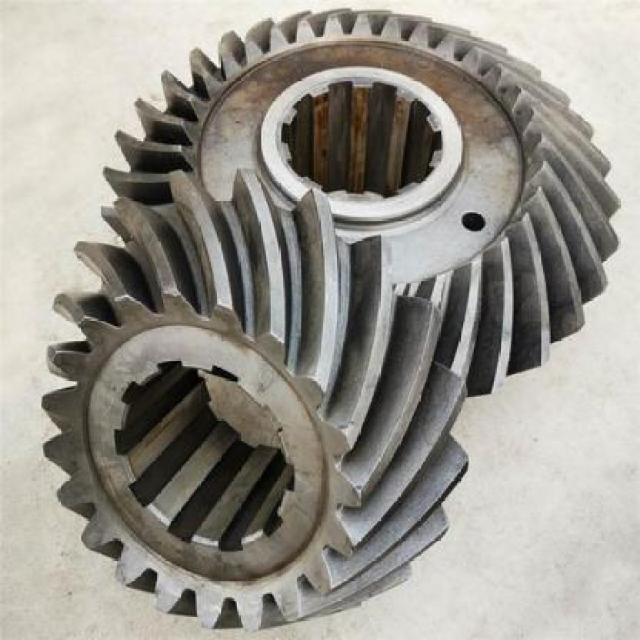Gear: (102, 6, 622, 403), (39, 164, 469, 634)
